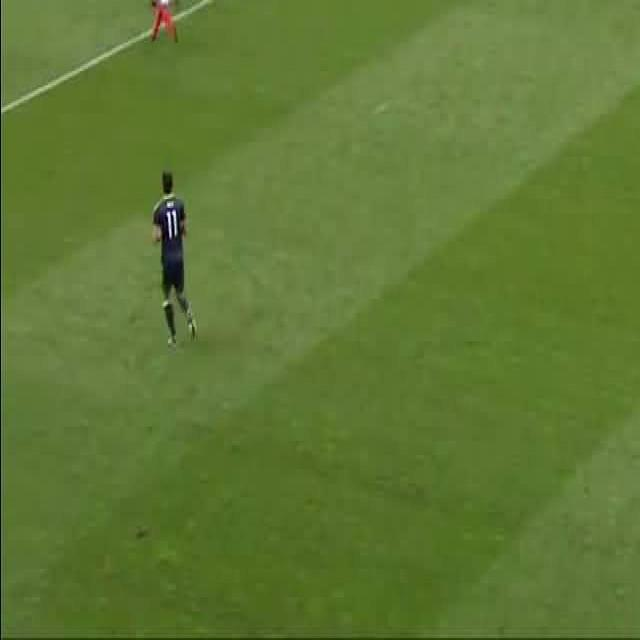player-white: (151, 170, 195, 351), (150, 0, 180, 44), (144, 0, 177, 6)
